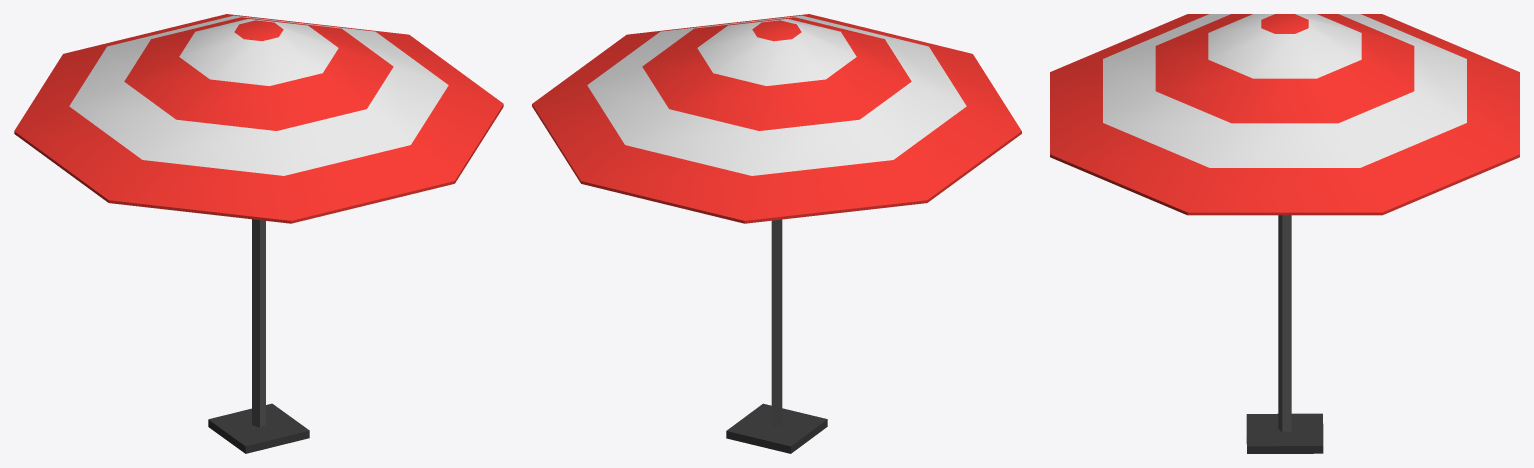
Rendered from SM_Props_Cafe_10.fbx.
3 views of the same model, side by side, from view 1: azimuth 30°, elevation 25°; view 2: azimuth 150°, elevation 25°; view 3: azimuth 270°, elevation 25° (orthographic). The views are drawn at different scales.
Parts seen in each view (by area): view 1: SM_Props_Cafe_10; view 2: SM_Props_Cafe_10; view 3: SM_Props_Cafe_10.
Part boxes in pixels (box(x1,y1,x2,y2)): SM_Props_Cafe_10: box(14, 14, 503, 453); SM_Props_Cafe_10: box(532, 14, 1021, 453); SM_Props_Cafe_10: box(1050, 14, 1519, 453).
Size of the model in its own units: 2.87 by 2.79 by 2.87.
